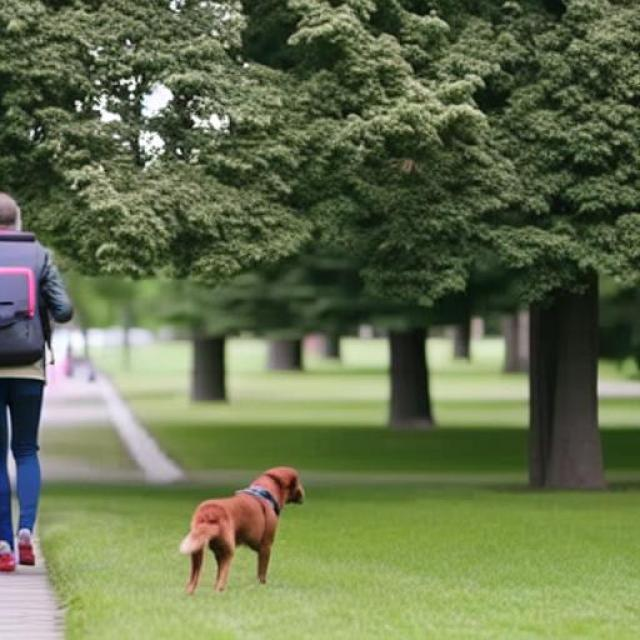Unleashed_Dog: (13, 363, 307, 598)
